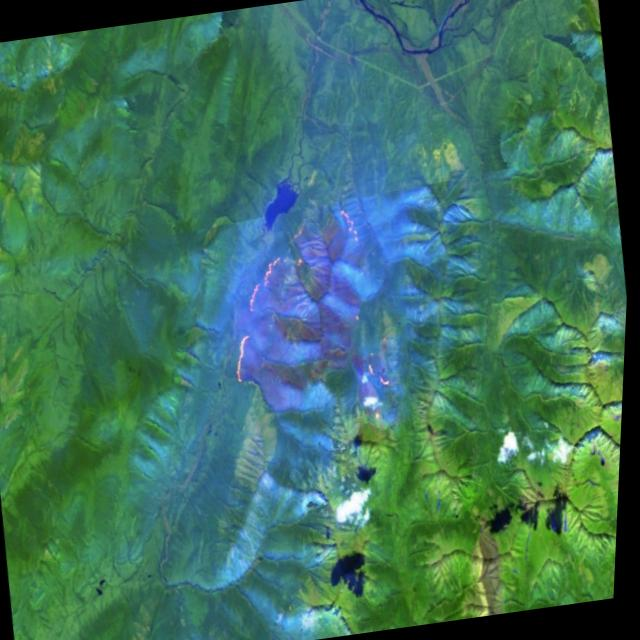fire: (210, 195, 413, 442)
